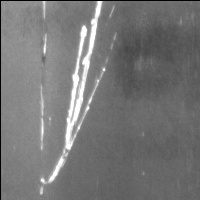scratches: (47, 2, 112, 184), (36, 63, 50, 155), (39, 1, 50, 61)
